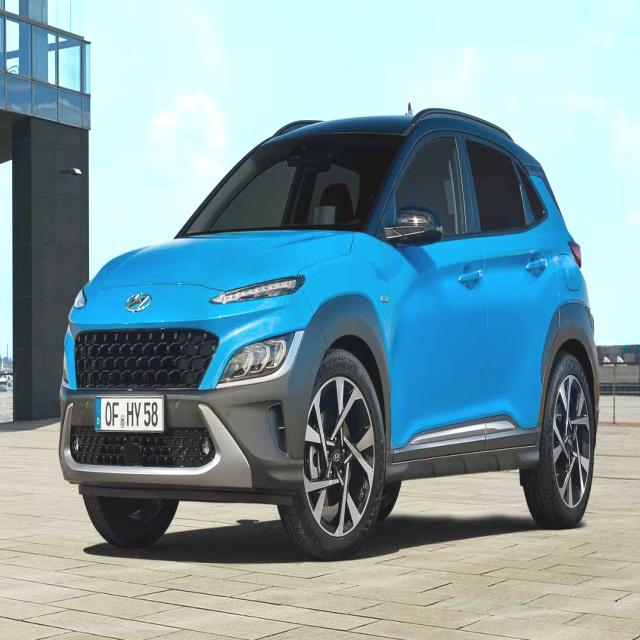SUV: (54, 101, 607, 564)
